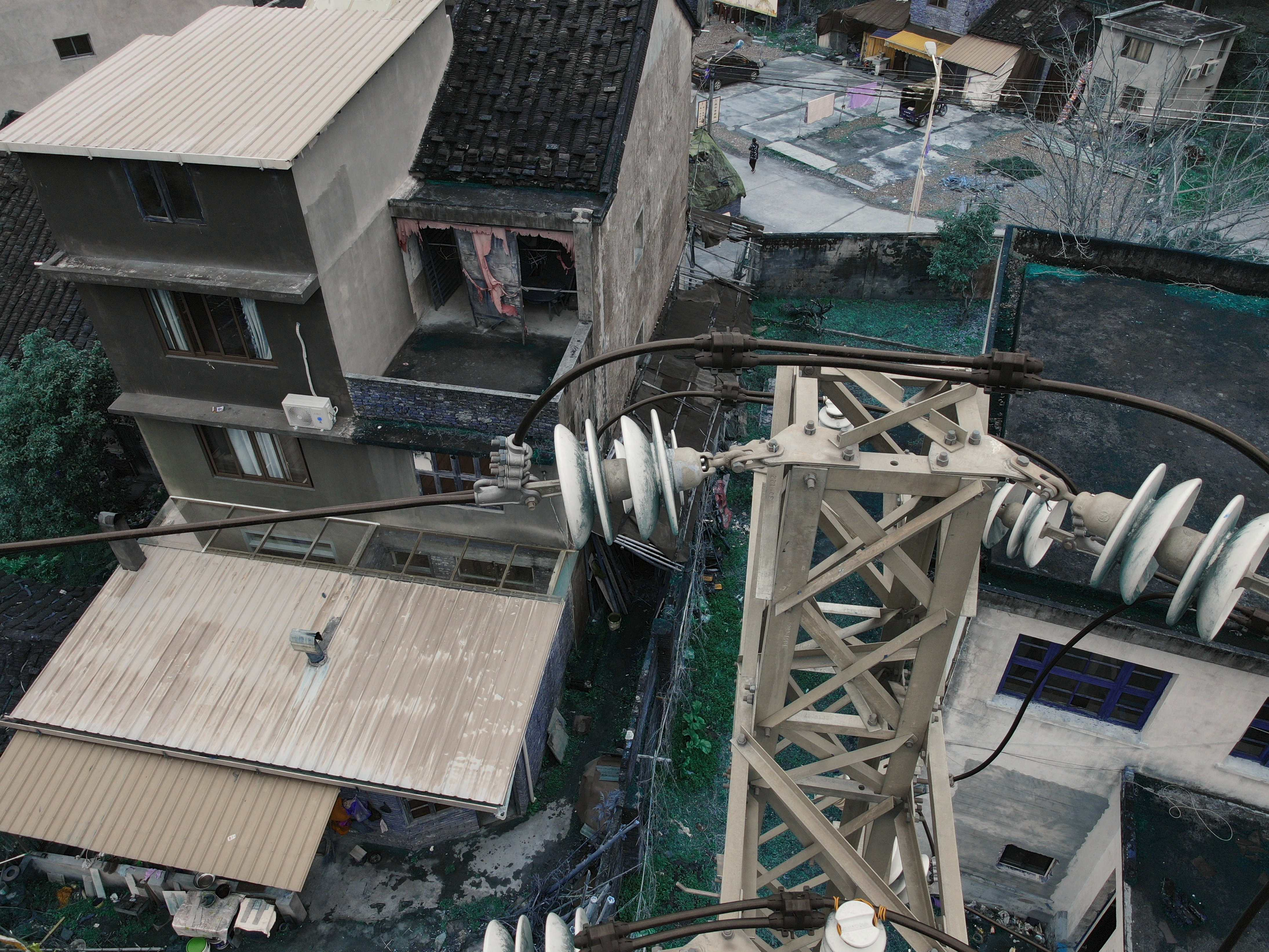severe_soiling_no_discharge_whole: (1074, 459, 1265, 642), (547, 406, 713, 546), (988, 483, 1066, 568), (476, 900, 597, 952)
